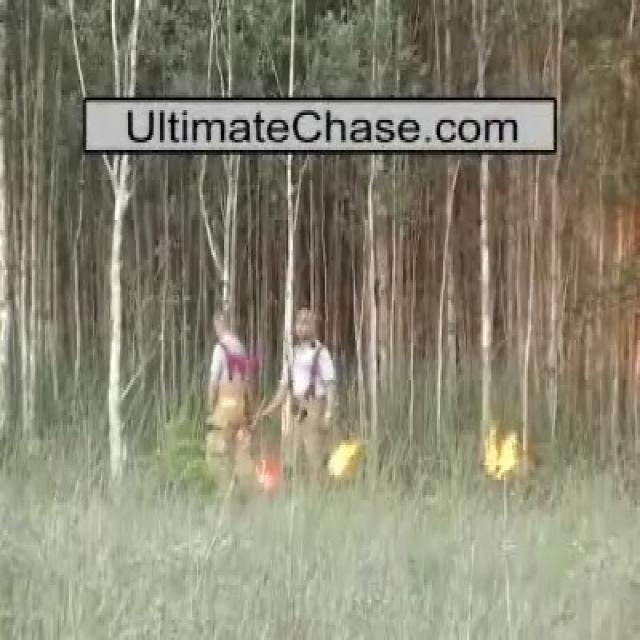fire: (482, 424, 517, 481), (328, 440, 357, 480)
